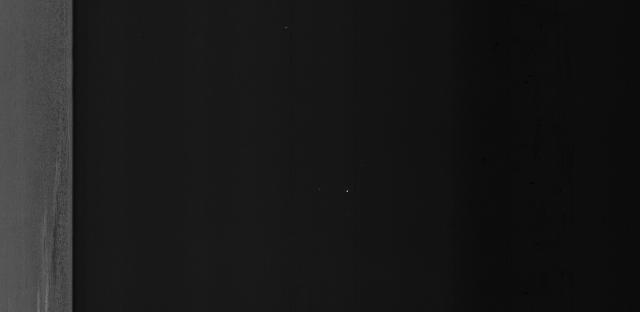silk_spot: (19, 114, 63, 307)
